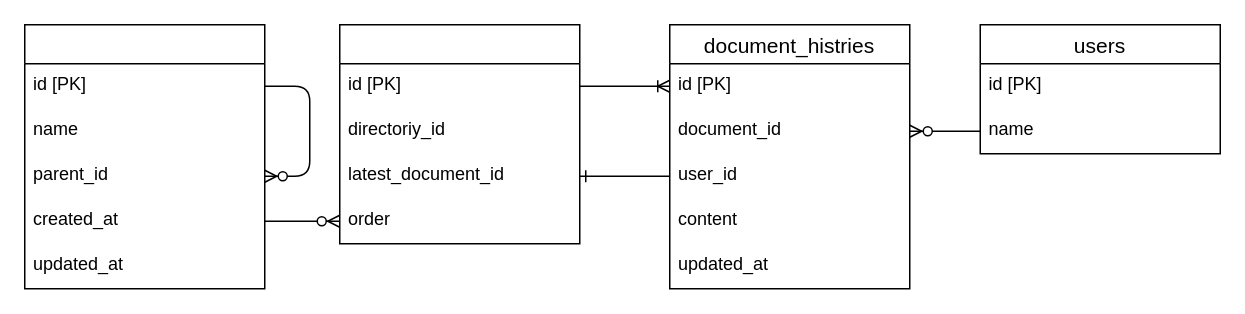
Some shapes in this 1245 by 314 pixel diagram are drawn without their labels. Here are the shapes that lost their labels. From the top down, the box of each, then its label:
(338, 23, 580, 244): documents
(23, 23, 265, 289): directories
